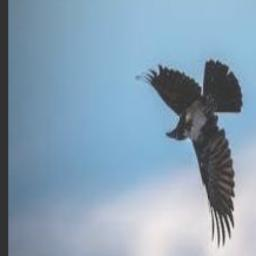Crow: (135, 60, 242, 248)
